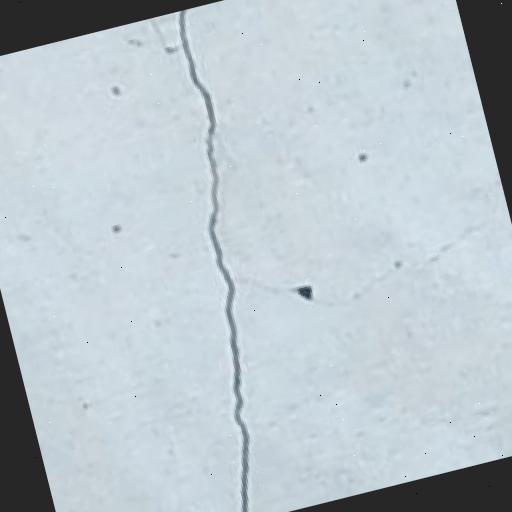spalling: (163, 12, 261, 512), (238, 184, 506, 315)
